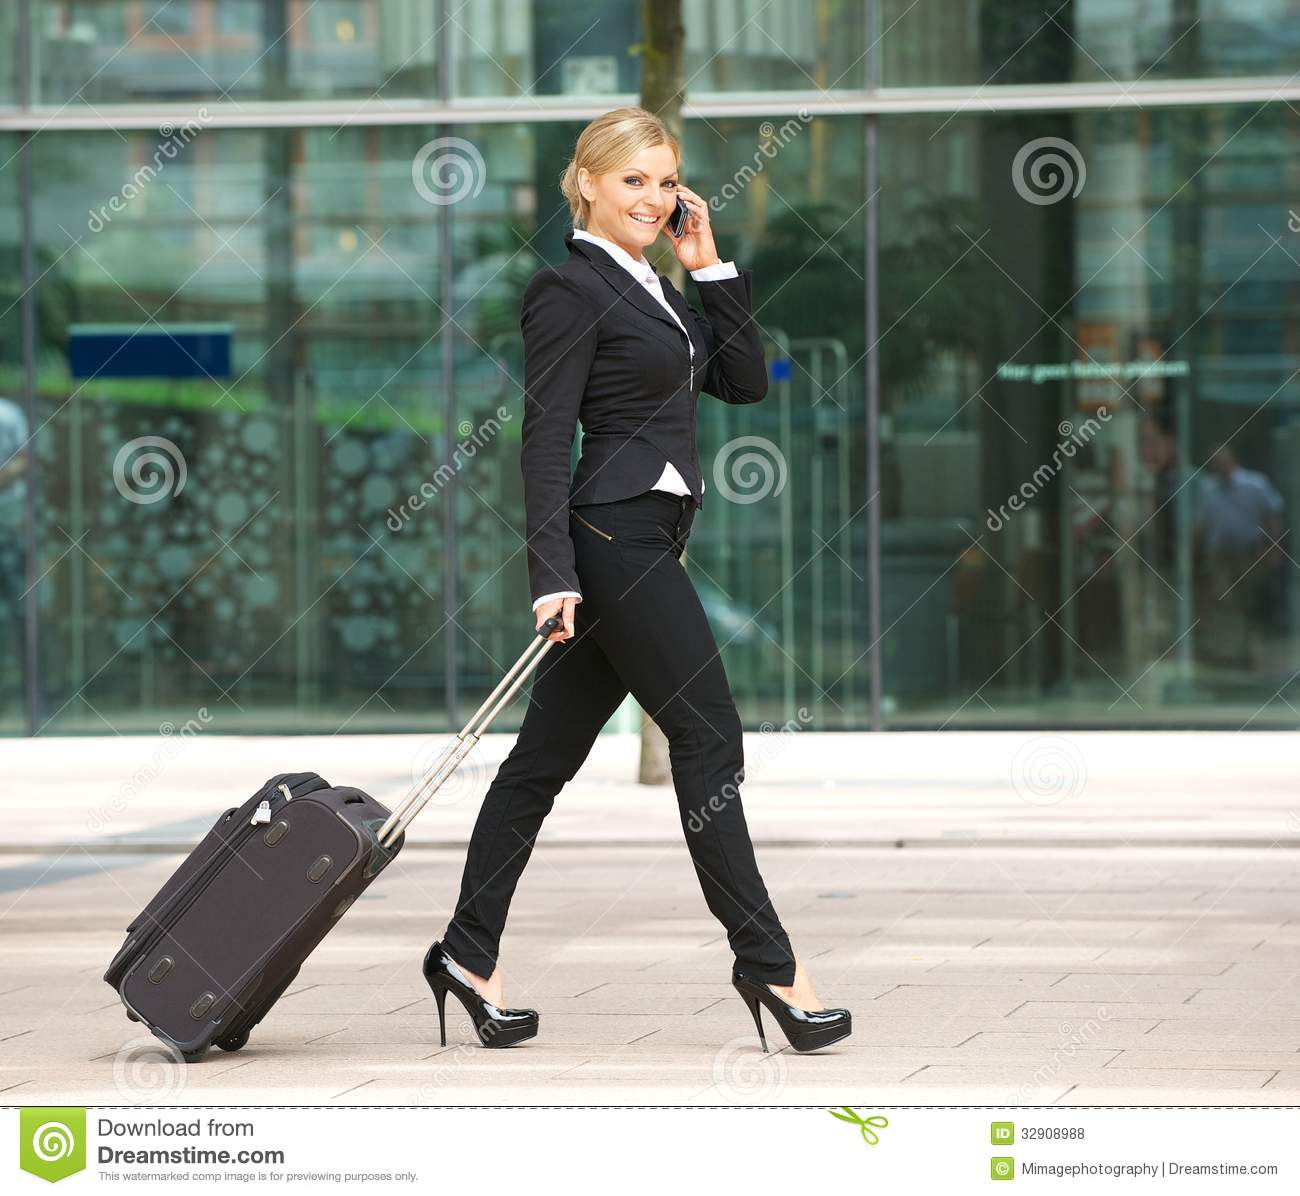talk: (619, 164, 716, 262)
